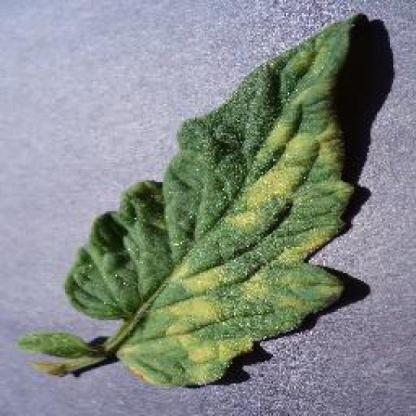Tomato_Leaf_Mold: (70, 18, 353, 386)
